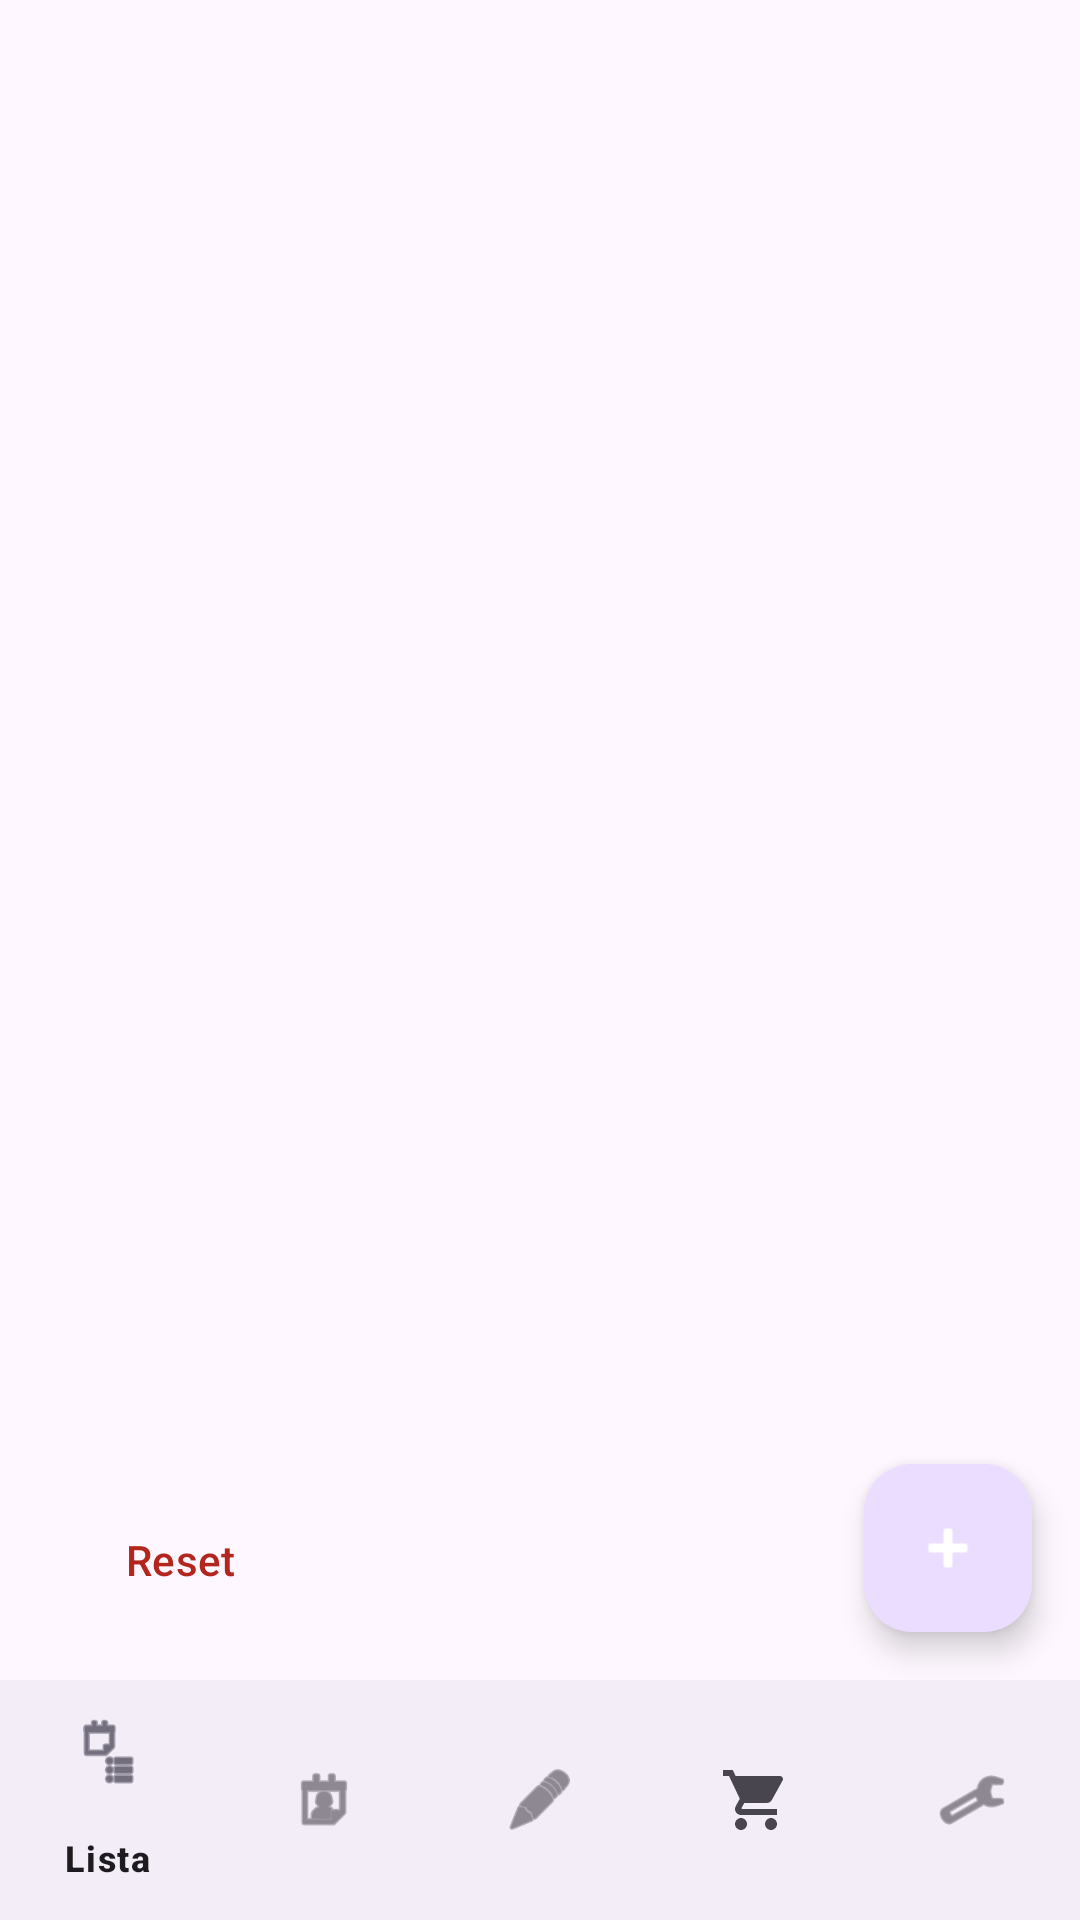

Named icons in this screenshot (1080×1920) and their bounding boxes, (x1, y1, x2, y2):
Dodaj novi zadatak: (864, 1464, 1032, 1632)
